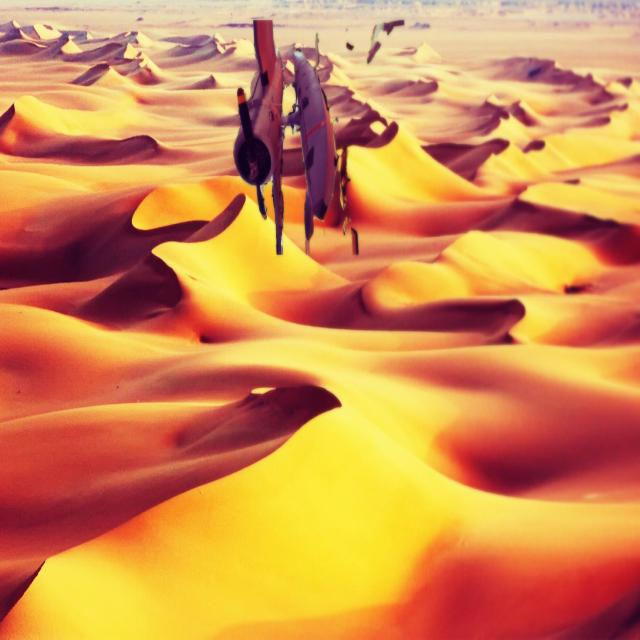airplane: (233, 20, 356, 257)
